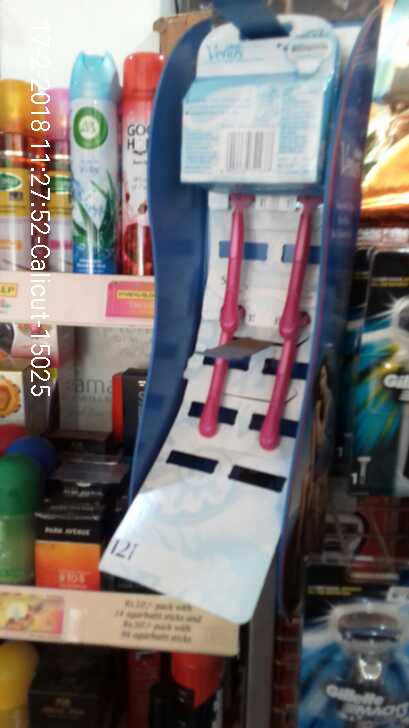reject: (190, 231, 259, 297)
